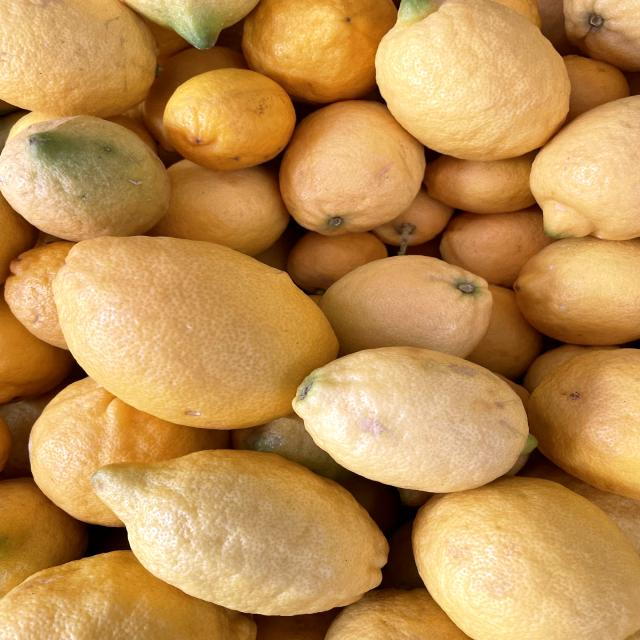lemon: (79, 429, 422, 616), (273, 338, 544, 489), (272, 80, 443, 239)
